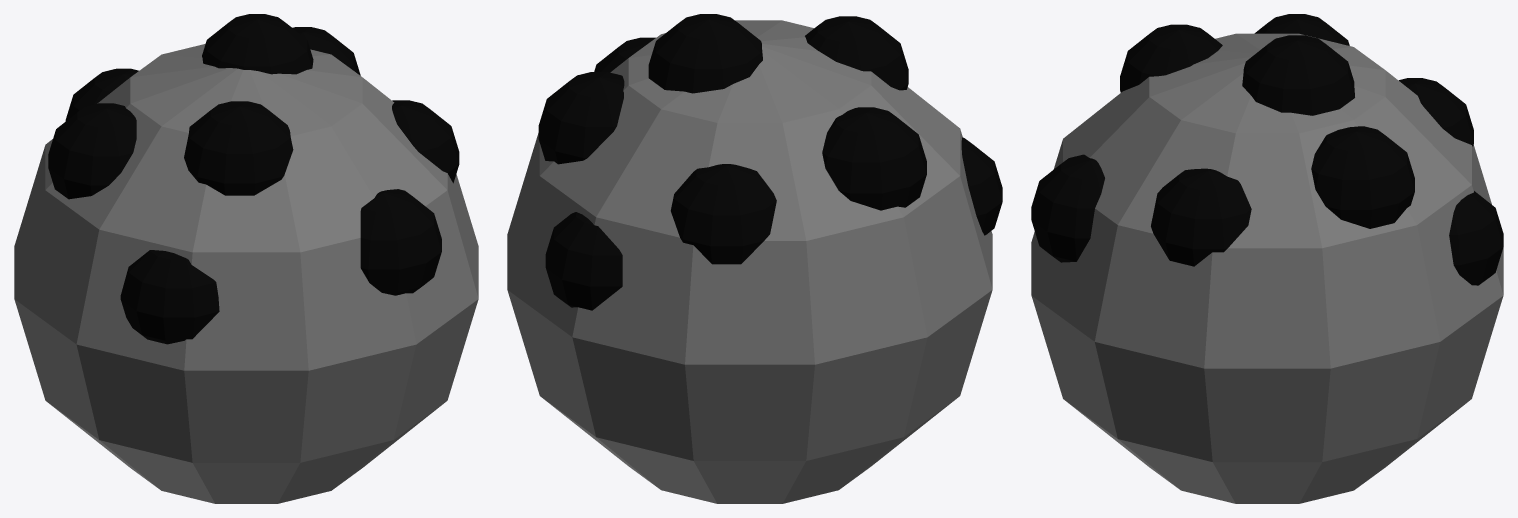
Rendered from ore.gltf.
3 views of the same model, side by side, from view 1: azimuth 30°, elevation 25°; view 2: azimuth 150°, elevation 25°; view 3: azimuth 270°, elevation 25° (orthographic). The views are drawn at different scales.
Parts seen in each view (by area): view 1: sphere (×2); view 2: sphere (×2); view 3: sphere (×2).
Boxes of the visible parts, left/top/right/bottom form: sphere (×2): left=14, top=14, right=478, bottom=503; sphere (×2): left=507, top=14, right=1002, bottom=503; sphere (×2): left=1031, top=14, right=1503, bottom=503.
Size of the model in its own units: 10 by 10.62 by 10.
Materials: 2 (2 with a texture image).
